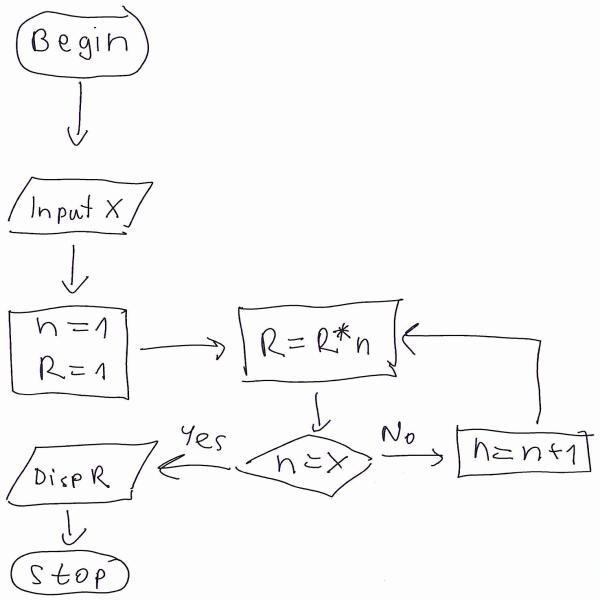arrow: (403, 321, 549, 422), (137, 332, 222, 364), (157, 453, 236, 483), (57, 229, 92, 292), (66, 81, 94, 153), (301, 381, 339, 427), (375, 450, 447, 470), (57, 504, 88, 544)
data: (3, 174, 164, 242), (5, 440, 161, 507)
decision: (234, 432, 381, 500)
process: (4, 305, 134, 400), (236, 302, 400, 376), (451, 422, 594, 481)
terminator: (4, 0, 159, 84), (3, 540, 140, 599)
text: (32, 314, 116, 386), (252, 318, 374, 366), (27, 20, 138, 66), (466, 429, 594, 465), (25, 184, 126, 226), (33, 458, 117, 495), (272, 449, 353, 483), (22, 561, 116, 589), (370, 419, 424, 452), (175, 423, 227, 452)
